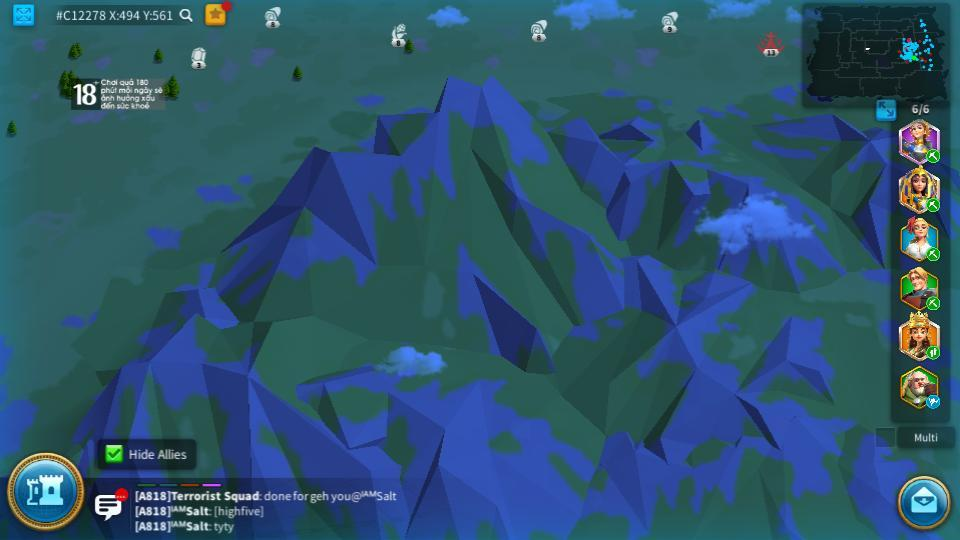gem-z-out: (186, 46, 209, 67)
march_idle: (925, 396, 942, 408)
march_marching: (924, 197, 939, 212), (924, 345, 939, 359), (925, 150, 942, 162), (925, 297, 942, 309)
